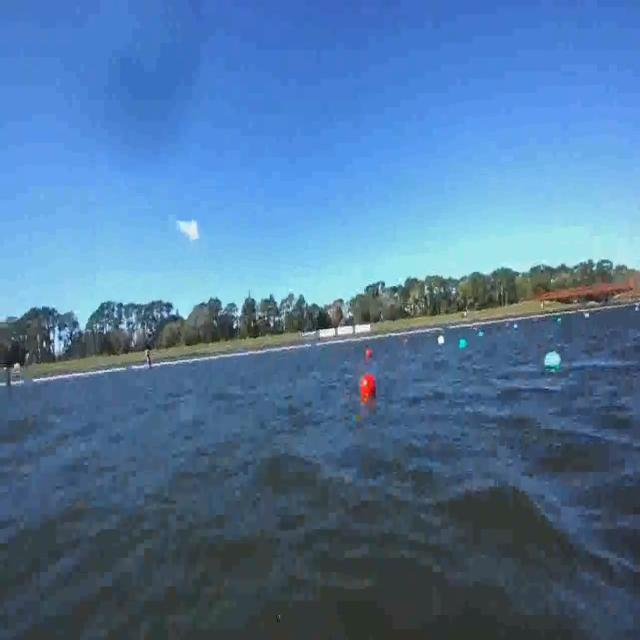green-buoy: (545, 352, 563, 372), (458, 339, 468, 350)
red-buoy: (361, 374, 375, 400), (364, 344, 373, 363)
yellow-buoy: (436, 330, 446, 348)
